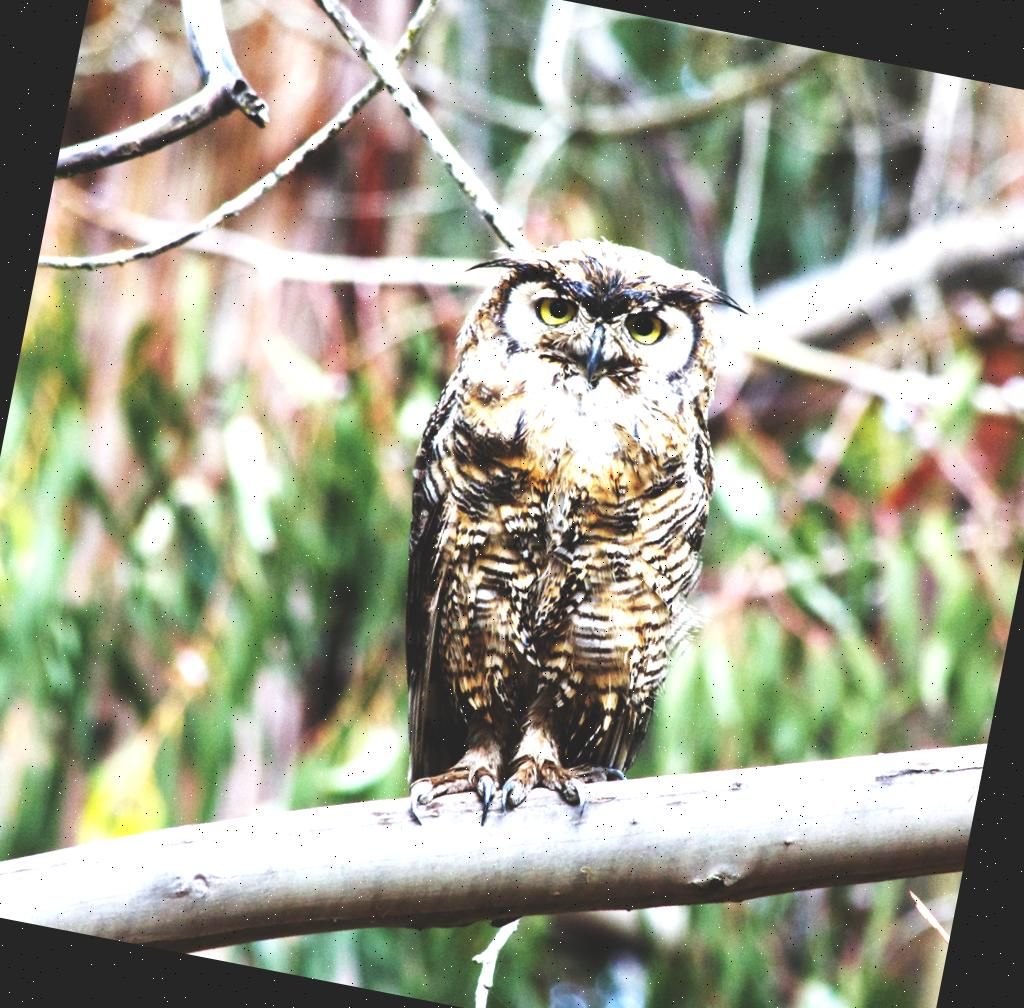Owl: (349, 209, 764, 871)
